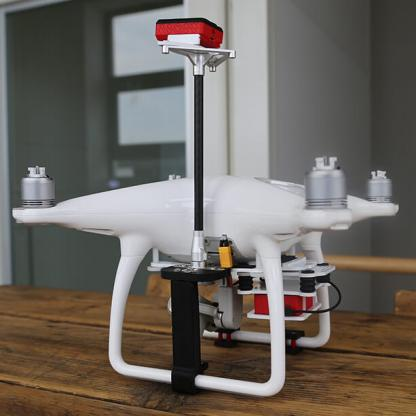drone: (20, 140, 409, 274)
